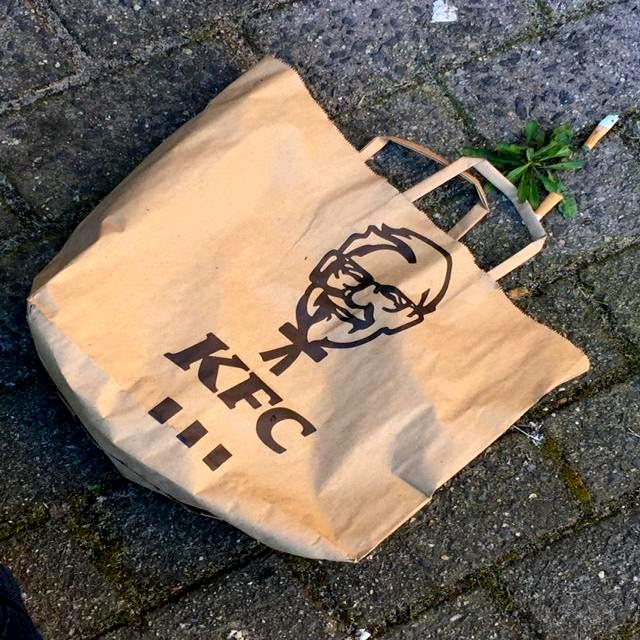Paper: (17, 54, 591, 566)
